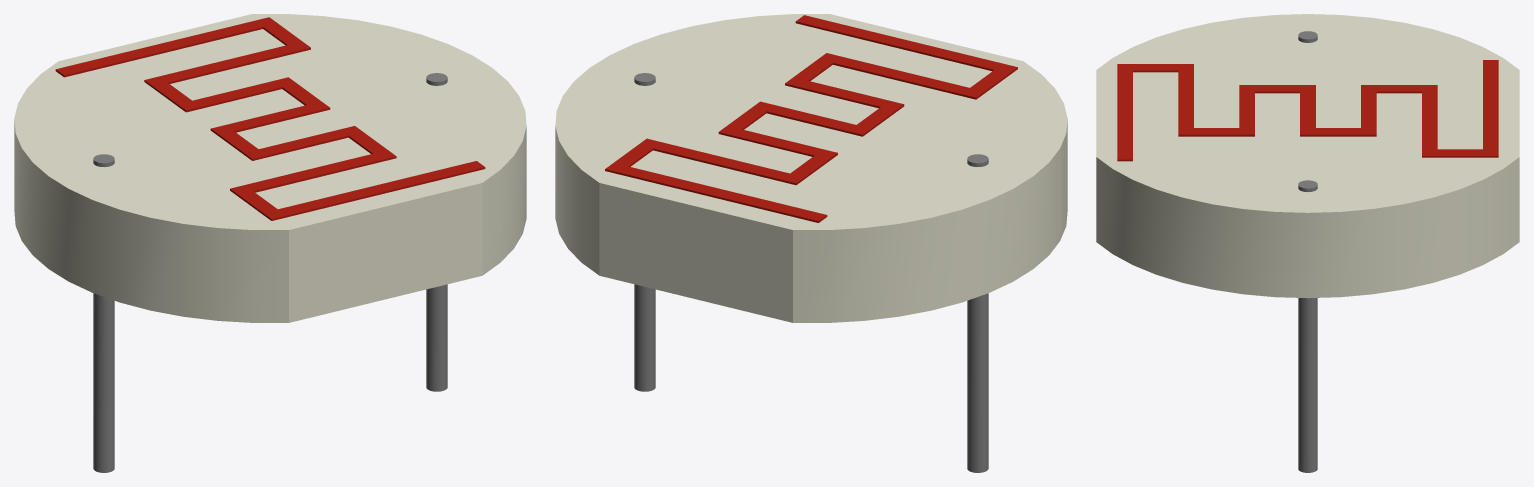
The model's file is kc-r_ldr_12x10.8mm_p9.0mm_vertical.glb.
3 views of the same model, side by side, from view 1: azimuth 30°, elevation 25°; view 2: azimuth 150°, elevation 25°; view 3: azimuth 270°, elevation 25° (orthographic). The views are drawn at different scales.
Parts seen in each view (by area): view 1: 0.75_0.75_0.6666666666666666_0, 0.4166666666666667_0_0_0, 0.25_0.25_0.25_0; view 2: 0.75_0.75_0.6666666666666666_0, 0.4166666666666667_0_0_0, 0.25_0.25_0.25_0; view 3: 0.75_0.75_0.6666666666666666_0, 0.4166666666666667_0_0_0, 0.25_0.25_0.25_0.
Boxes of the visible parts, x1=… form: 0.75_0.75_0.6666666666666666_0: x1=14, y1=14, x2=526, y2=322; 0.4166666666666667_0_0_0: x1=55, y1=17, x2=485, y2=220; 0.25_0.25_0.25_0: x1=93, y1=73, x2=447, y2=472; 0.75_0.75_0.6666666666666666_0: x1=555, y1=14, x2=1067, y2=322; 0.4166666666666667_0_0_0: x1=605, y1=15, x2=1017, y2=222; 0.25_0.25_0.25_0: x1=634, y1=73, x2=988, y2=472; 0.75_0.75_0.6666666666666666_0: x1=1096, y1=14, x2=1519, y2=298; 0.4166666666666667_0_0_0: x1=1117, y1=60, x2=1498, y2=161; 0.25_0.25_0.25_0: x1=1298, y1=31, x2=1317, y2=472.
Bounding box in the file's own units: 1.2 × 0.8001 × 1.08.
